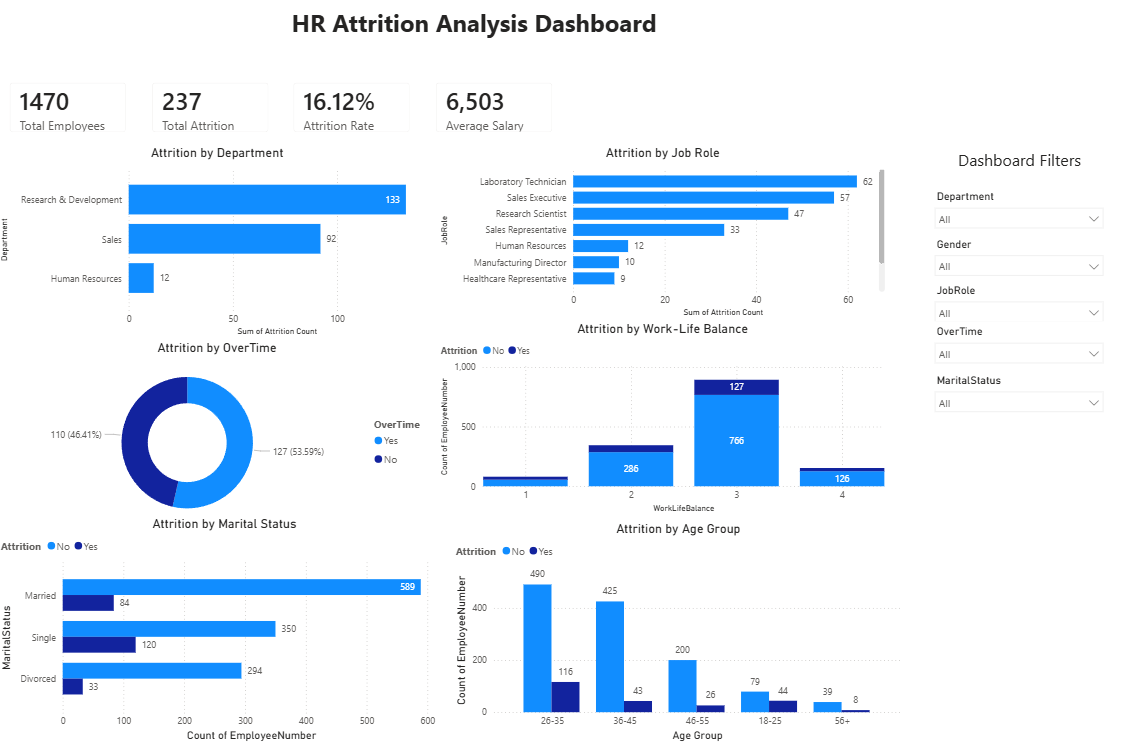

What the dashboard file says about the page in this screenshot:
{"tool":"powerbi","page":{"name":"HR Attrition Dashboard","canvas":[1800,1000],"ordinal":0},"visuals":[{"type":"cardVisual","fields":{"Data":["Employee.Total Employees"]},"box":[0,100.2,189.4,100.2],"z":0},{"type":"cardVisual","fields":{"Data":["Employee.Total Attrition"]},"box":[189.4,100.2,189.4,100.2],"z":1000},{"type":"cardVisual","fields":{"Data":["Employee.Attrition Rate"]},"box":[378.7,100.2,189.4,100.2],"z":2000},{"type":"cardVisual","fields":{"Data":["Employee.Average Salary"]},"box":[568.1,100.2,189.4,100.2],"z":3000},{"type":"clusteredBarChart","title":"Attrition by Department","fields":{"Y":["Sum(Employee.Attrition Count)"],"Category":["Employee.Department"]},"box":[0,200.3,587.3,259.3],"z":4000},{"type":"barChart","title":"Attrition by Job Role","fields":{"Category":["Employee.JobRole"],"Y":["Sum(Employee.Attrition Count)"]},"box":[587.3,200.3,602.4,234.6],"z":5000},{"type":"donutChart","title":"Attrition by OverTime","fields":{"Category":["Employee.OverTime"],"Y":["Sum(Employee.Attrition Count)"]},"box":[0,460,586.7,255],"z":6000},{"type":"columnChart","title":"Attrition by Work-Life Balance","fields":{"Category":["Employee.WorkLifeBalance"],"Series":["Employee.Attrition"],"Y":["CountNonNull(Employee.EmployeeNumber)"]},"box":[586.7,435,601.7,260],"z":7000},{"type":"clusteredBarChart","title":"Attrition by Marital Status","fields":{"Category":["Employee.MaritalStatus"],"Series":["Employee.Attrition"],"Y":["CountNonNull(Employee.EmployeeNumber)"]},"box":[0,695,606.7,305],"z":8000},{"type":"textbox","box":[0,9.6,1272,90.6],"z":9000},{"type":"clusteredColumnChart","title":"Attrition by Age Group","fields":{"Category":["Employee.Age Group"],"Series":["Employee.Attrition"],"Y":["CountNonNull(Employee.EmployeeNumber)"]},"box":[606.7,701.7,603.3,298.3],"z":10000},{"type":"textbox","box":[1210,200,306.7,55],"z":11000},{"type":"slicer","fields":{"Values":["Employee.Department"]},"box":[1240,255,245,75],"z":12000},{"type":"slicer","fields":{"Values":["Employee.Gender"]},"box":[1240,318.3,245,76.7],"z":13000},{"type":"slicer","fields":{"Values":["Employee.JobRole"]},"box":[1240,380,245,80],"z":14000},{"type":"slicer","fields":{"Values":["Employee.MaritalStatus"]},"box":[1240,500,245,65],"z":15000},{"type":"slicer","fields":{"Values":["Employee.OverTime"]},"box":[1240,435,245,65],"z":16000}]}

Visuals, with their boxes on the page's 1800x1000 design canvas (x1, y1, x2, y2). These are canvas units, not pixel positions in the 1148x745 screenshot, which may show the page scaled, cropped or inside an application window:
cardVisual - Employee.Total Employees: left=0, top=100, right=189, bottom=200
cardVisual - Employee.Total Attrition: left=189, top=100, right=379, bottom=200
cardVisual - Employee.Attrition Rate: left=379, top=100, right=568, bottom=200
cardVisual - Employee.Average Salary: left=568, top=100, right=758, bottom=200
"Attrition by Department" clusteredBarChart: left=0, top=200, right=587, bottom=460
"Attrition by Job Role" barChart: left=587, top=200, right=1190, bottom=435
"Attrition by OverTime" donutChart: left=0, top=460, right=587, bottom=715
"Attrition by Work-Life Balance" columnChart: left=587, top=435, right=1188, bottom=695
"Attrition by Marital Status" clusteredBarChart: left=0, top=695, right=607, bottom=1000
textbox: left=0, top=10, right=1272, bottom=100
"Attrition by Age Group" clusteredColumnChart: left=607, top=702, right=1210, bottom=1000
textbox: left=1210, top=200, right=1517, bottom=255
slicer - Employee.Department: left=1240, top=255, right=1485, bottom=330
slicer - Employee.Gender: left=1240, top=318, right=1485, bottom=395
slicer - Employee.JobRole: left=1240, top=380, right=1485, bottom=460
slicer - Employee.MaritalStatus: left=1240, top=500, right=1485, bottom=565
slicer - Employee.OverTime: left=1240, top=435, right=1485, bottom=500
